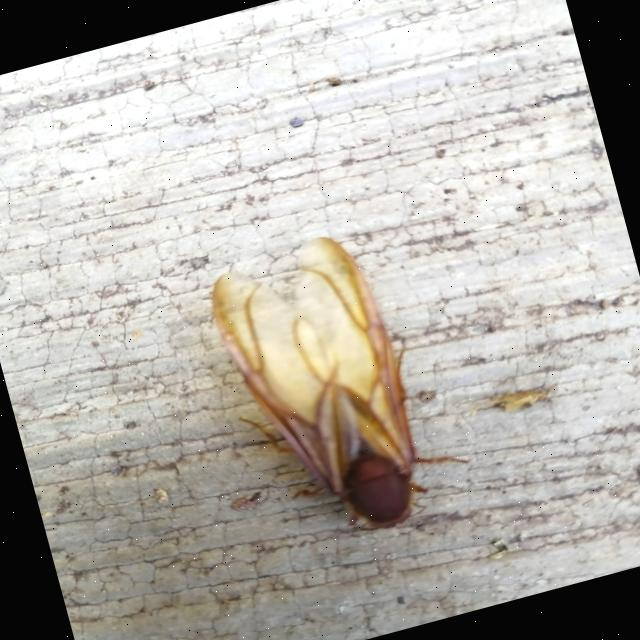Alive-Female-Alate: (192, 213, 482, 557)
